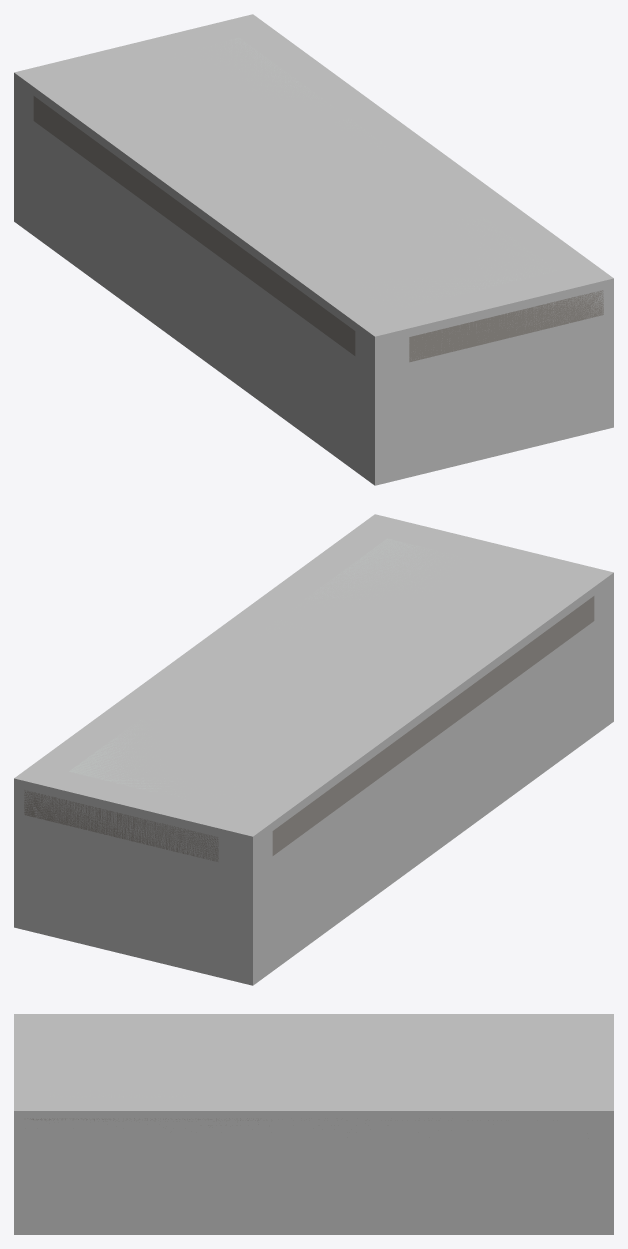
File: SM_Bench_04.fbx
3 renders of one model, top to bottom at view 1: azimuth 30°, elevation 25°; view 2: azimuth 150°, elevation 25°; view 3: azimuth 270°, elevation 25°, orthographic. The views are drawn at different scales.
Visible parts, largest first — view 1: SM_Bench_04_ConvexHulls, SM_Bench_04; view 2: SM_Bench_04_ConvexHulls, SM_Bench_04; view 3: SM_Bench_04_ConvexHulls.
Part boxes in pixels (left/top/right/bottom): SM_Bench_04_ConvexHulls: left=14, top=14, right=613, bottom=485; SM_Bench_04: left=33, top=38, right=603, bottom=362; SM_Bench_04_ConvexHulls: left=14, top=514, right=613, bottom=985; SM_Bench_04: left=24, top=538, right=594, bottom=861; SM_Bench_04_ConvexHulls: left=14, top=1014, right=613, bottom=1234.
Size of the model in its own units: 108 by 284 by 64.66.
2 materials, 1 textured.
